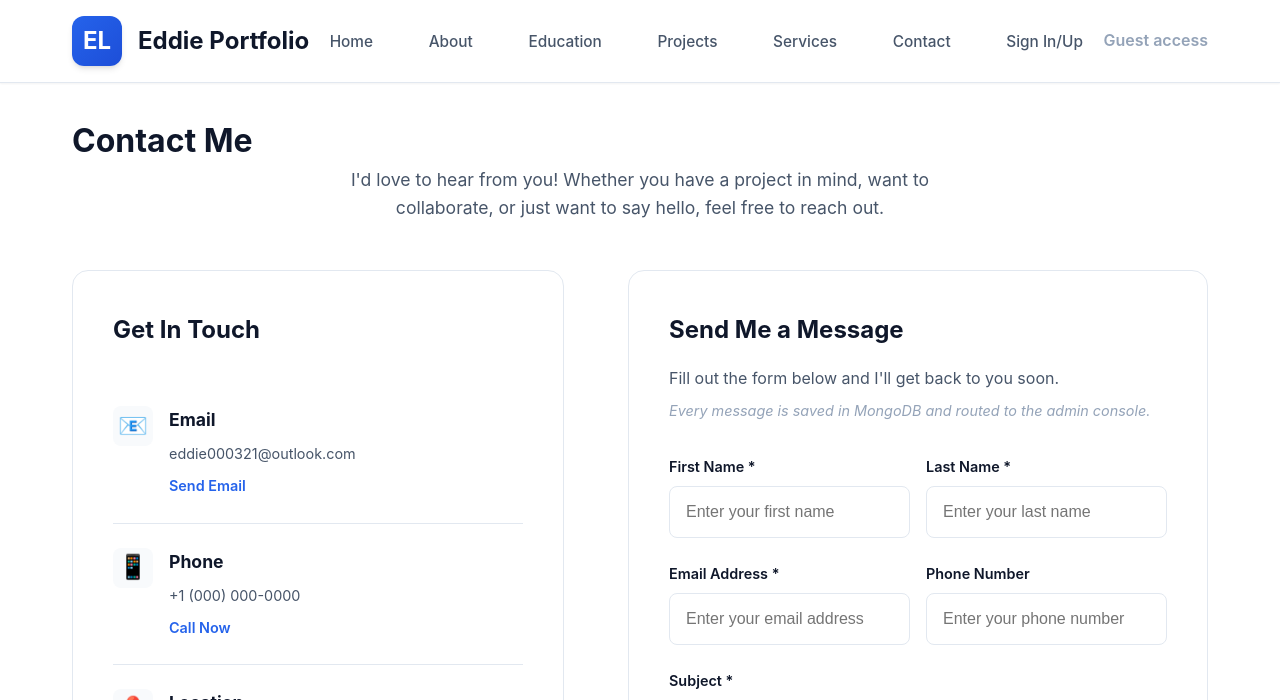
Test: Portfolio smoke tests › submits the contact form (API stubbed)
Type "Cypress" into the field named "firstName" at (790, 512), box [669,486,910,538]
Type "Tester" into the field named "lastName" at (1047, 512), box [926,486,1167,538]
Type "cypress@example.com" into the field named "email" at (790, 619), box [669,593,910,645]
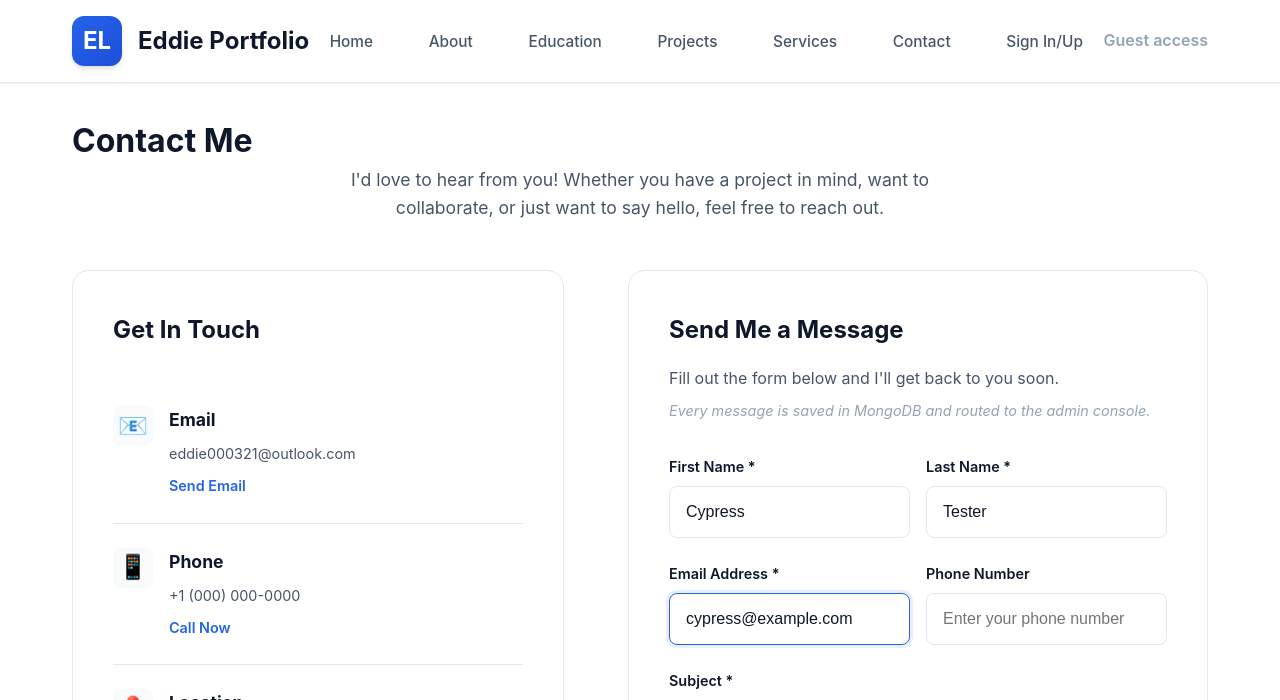
Type "1234567890" into the field named "phone" at (1047, 619), box [926,593,1167,645]
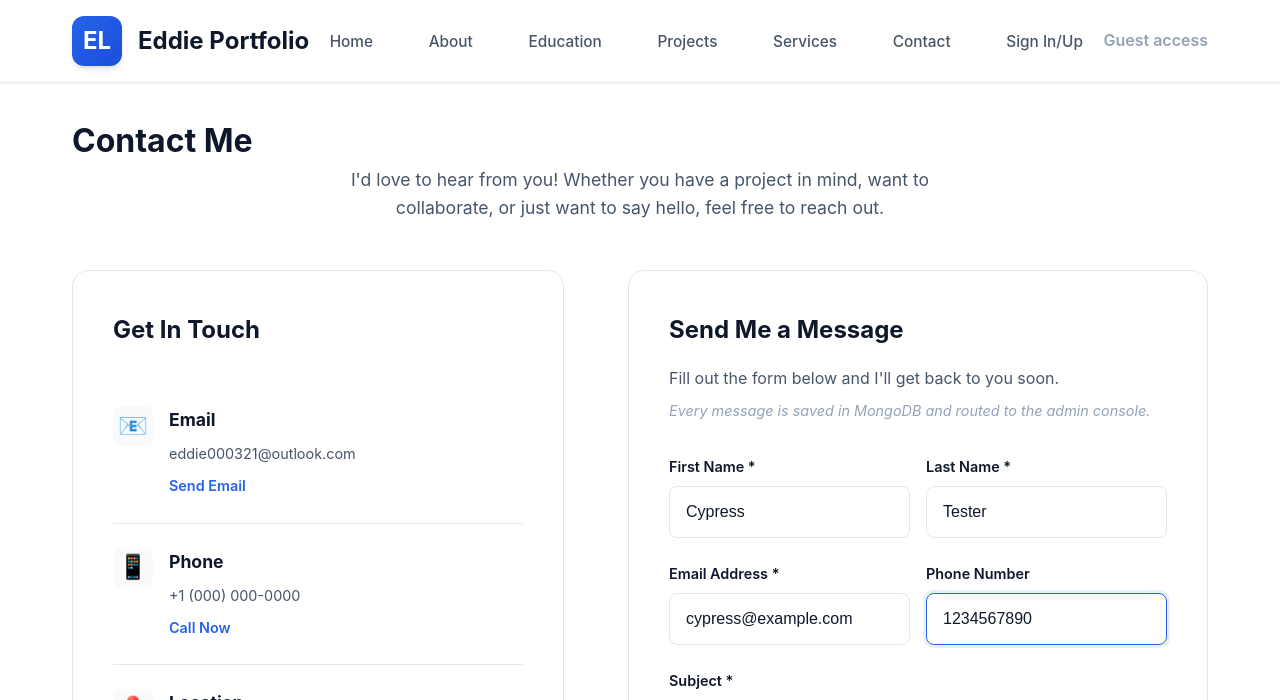
Scroll
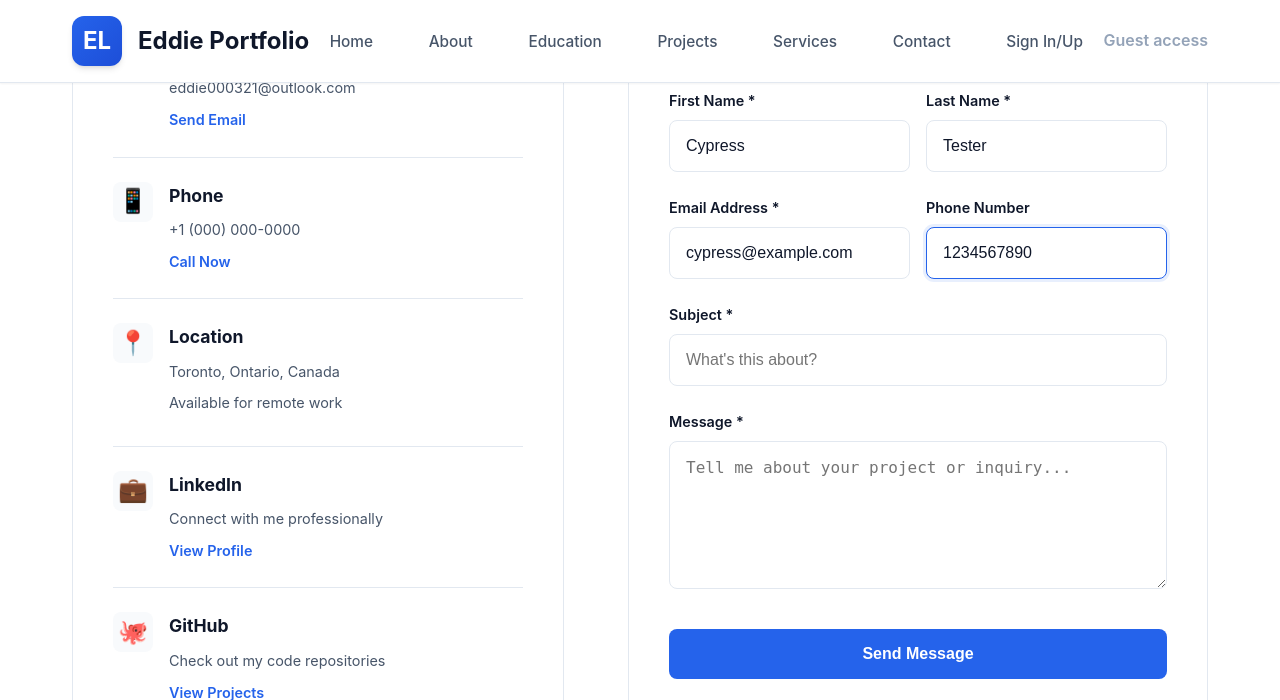
Type "Hello" into the field named "subject" at (918, 360), box [669,334,1167,386]
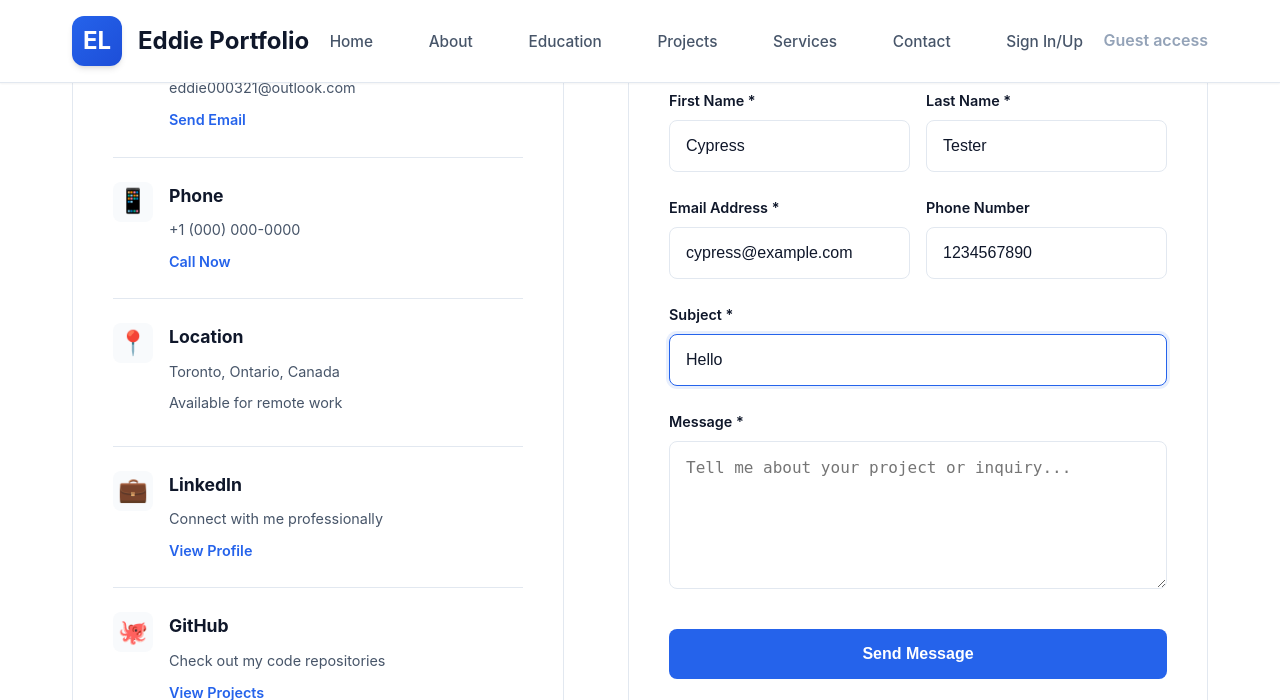
Type "Testing contact flow" into the text box named "message" at (918, 515), box [669,441,1167,589]
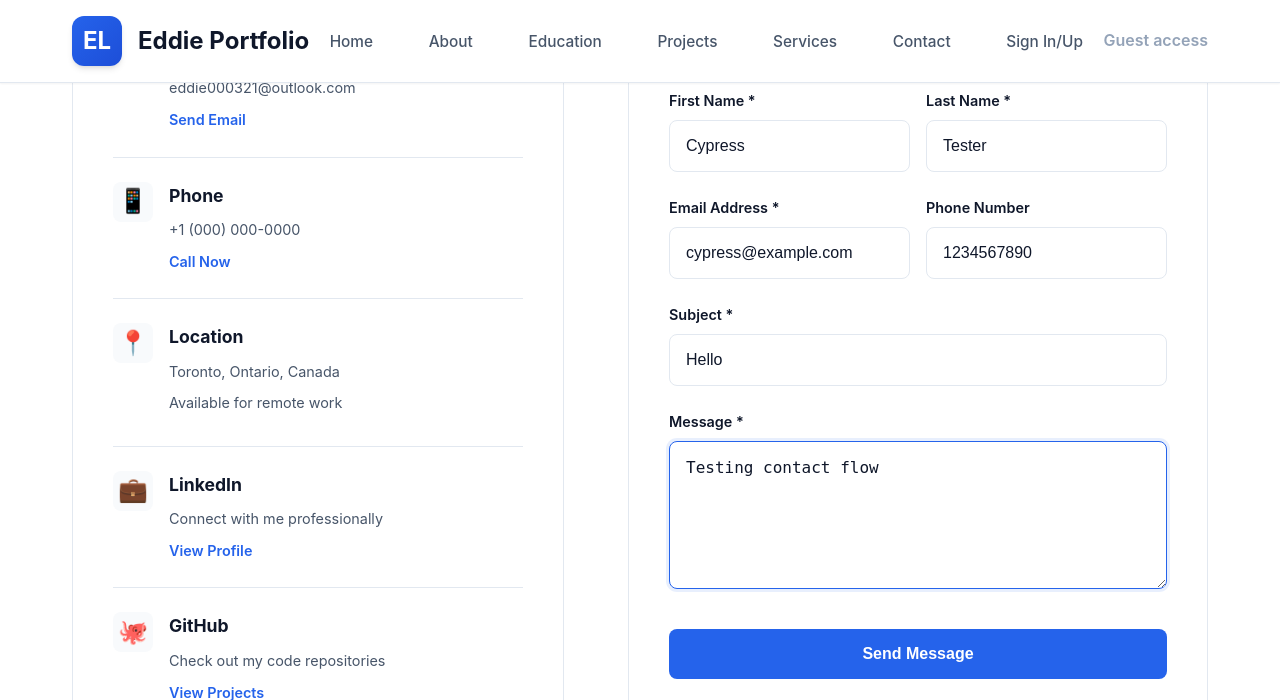
Click the button "Send Message" at (918, 654), box [669,629,1167,679]
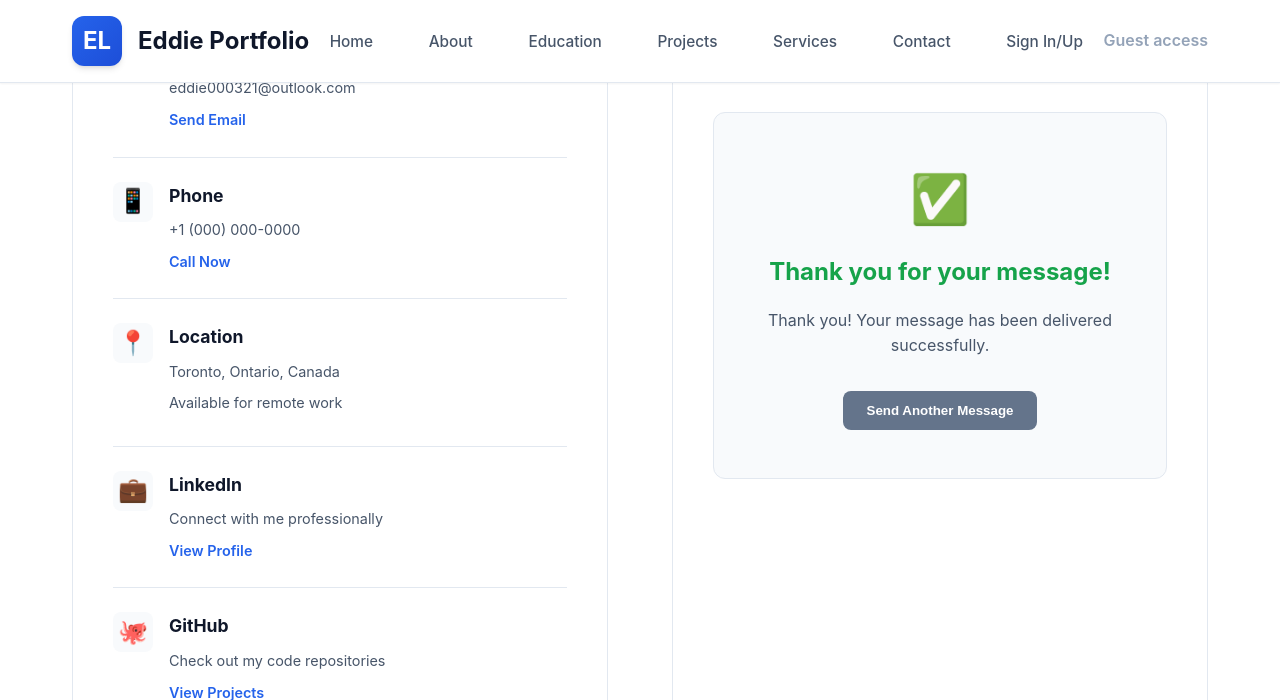
Result: the heading "Thank you for your message!" is shown at [762,253,1118,292]
